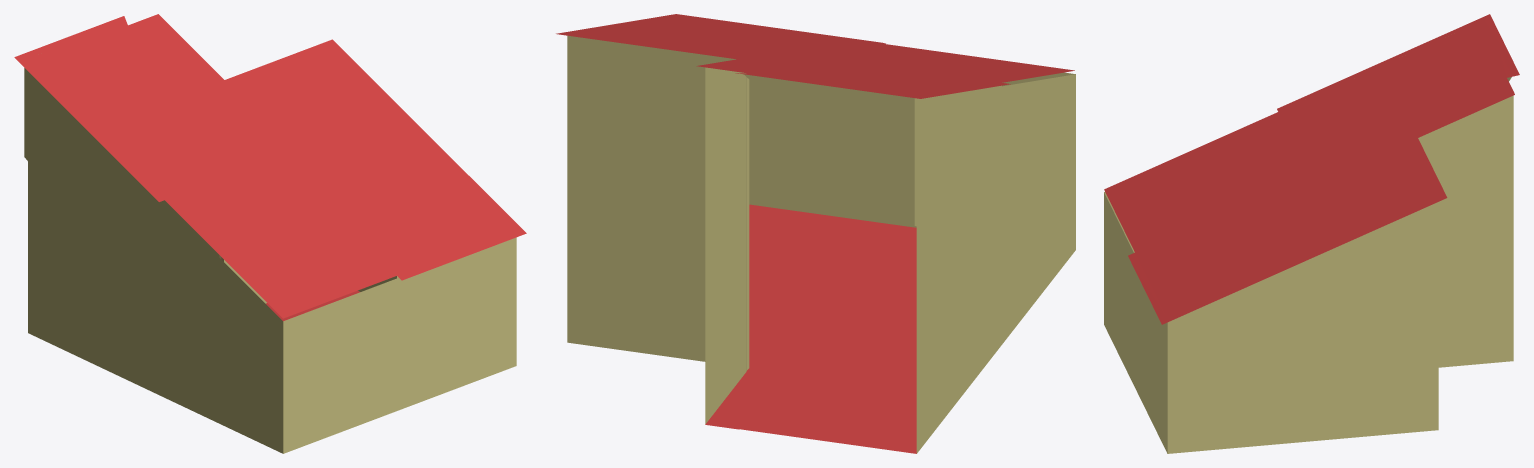
3 renders of one model, left to right at view 1: azimuth 30°, elevation 25°; view 2: azimuth 150°, elevation 25°; view 3: azimuth 270°, elevation 25°, orthographic. The views are drawn at different scales.
Bounding box in the file's own units: 13.73 × 14.2 × 10.31.
